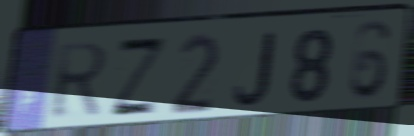2: (169, 29, 223, 118)
6: (347, 18, 395, 105)
8: (289, 26, 334, 105)
J: (232, 29, 277, 108)
R: (48, 40, 111, 123)
Z: (107, 36, 171, 119)
